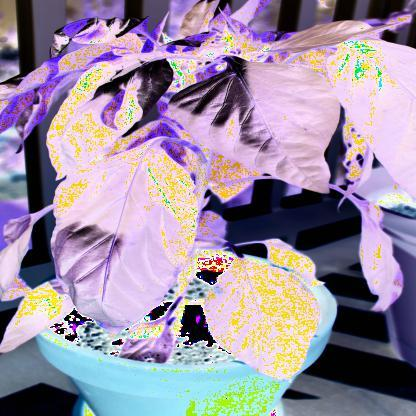Bell_pepper leaf spot: (53, 146, 202, 326), (165, 56, 340, 194), (198, 257, 323, 382)
